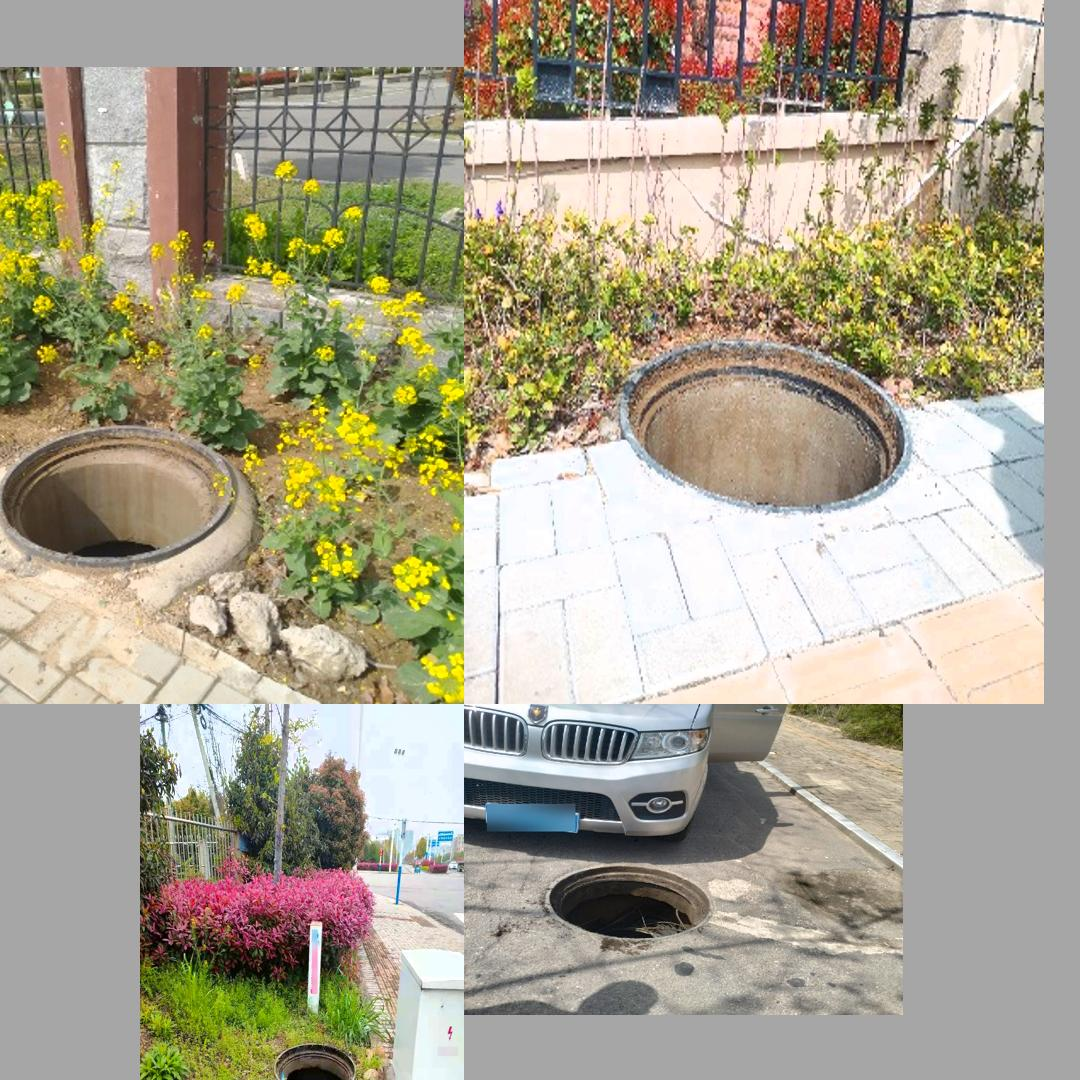lose: (617, 337, 911, 513), (0, 423, 237, 570), (537, 857, 714, 942), (267, 1030, 362, 1080)
